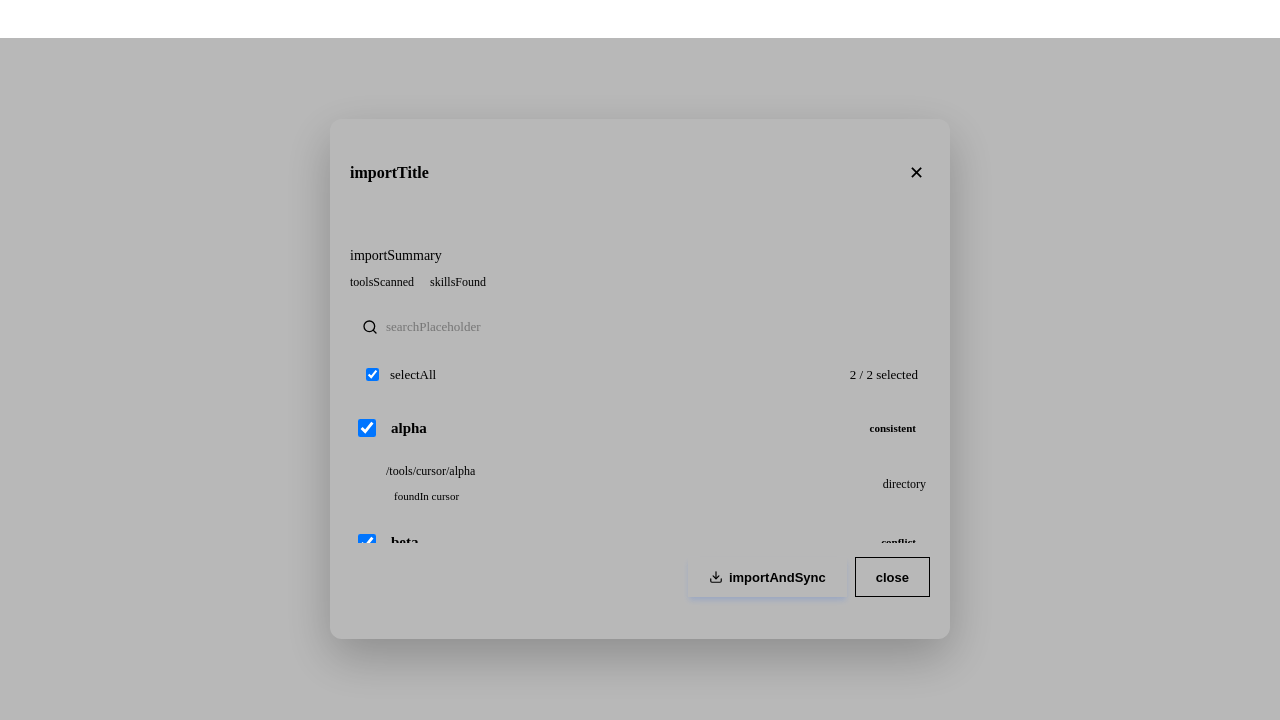
keeps the total import selection visible when search hides selected Skills
The width and height of the screenshot is (1280, 720).
Type "alpha" into the field labelled "searchPlaceholder" at (640, 327), box 350,309 -> 930,345
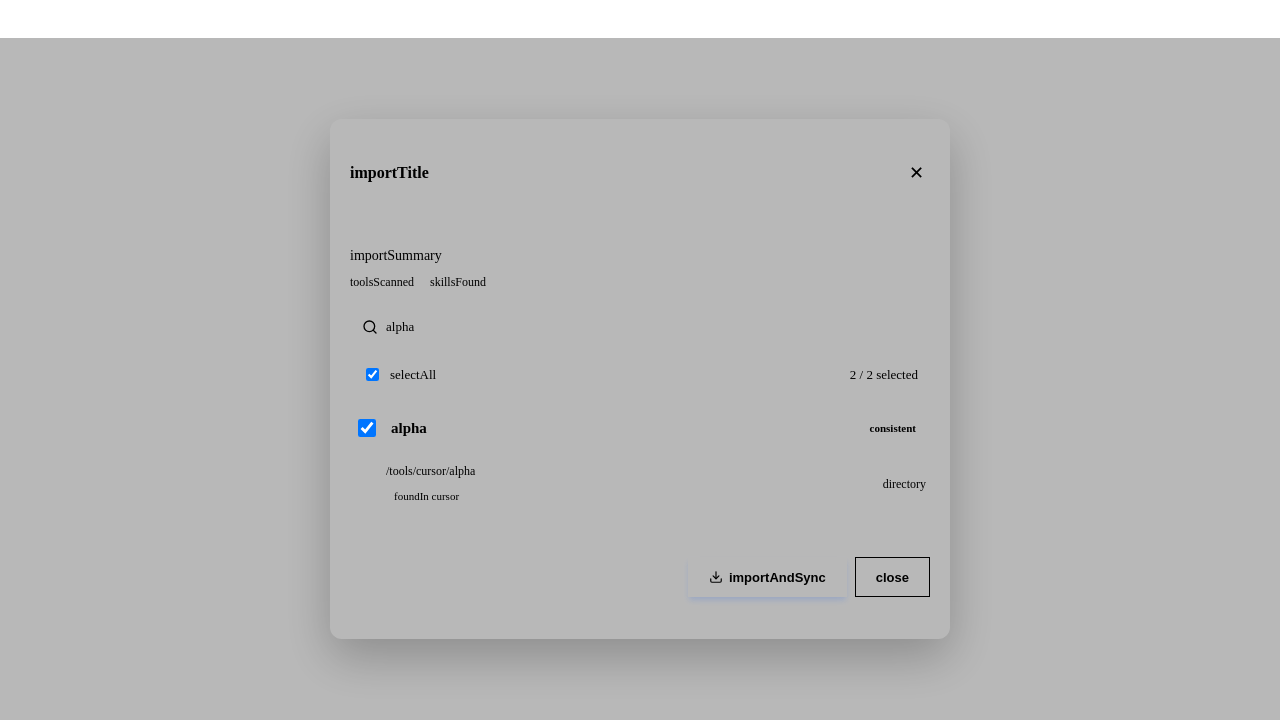
Check: the text "2 / 2 selected" is shown, box 850,365 -> 918,384
Check: the text "beta" is gone
